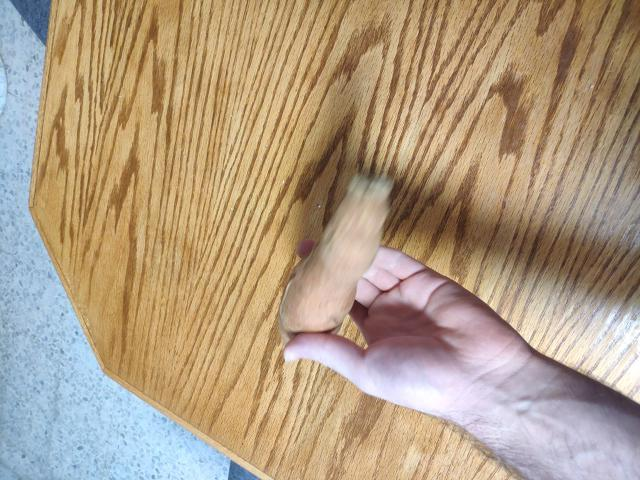sweet_potato: (278, 172, 399, 352)
